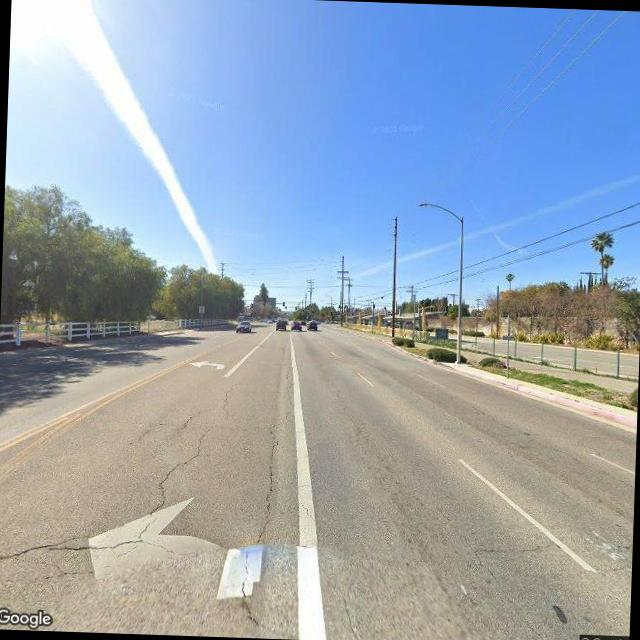crack: (114, 413, 216, 554), (0, 523, 186, 579), (238, 420, 284, 622), (219, 378, 237, 412), (176, 409, 194, 431)
